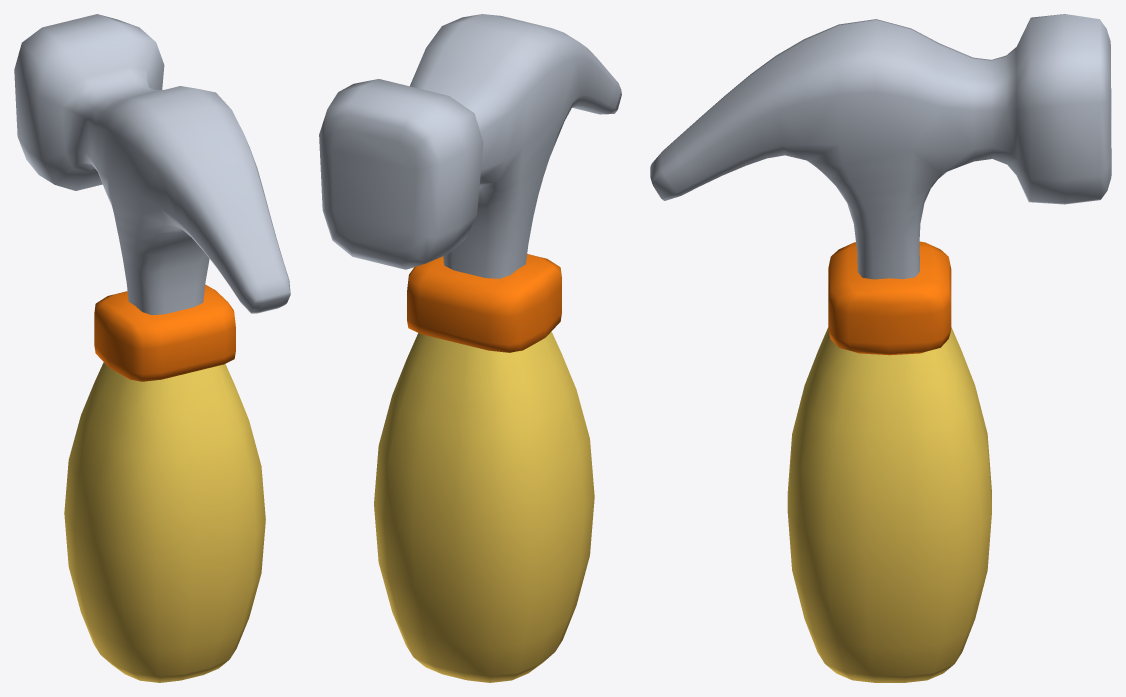
Rendered from hammer_1.fbx.
3 views of the same model, side by side, from view 1: azimuth 30°, elevation 25°; view 2: azimuth 150°, elevation 25°; view 3: azimuth 270°, elevation 25° (orthographic). The views are drawn at different scales.
Visible parts, largest first — view 1: hammer_1; view 2: hammer_1; view 3: hammer_1.
Part boxes in pixels (x1,y1,x2,y2): hammer_1: (14,14,290,682); hammer_1: (319,14,621,682); hammer_1: (650,14,1111,682).
Bounding box in the file's own units: 0.2968 × 0.6697 × 1.01.
